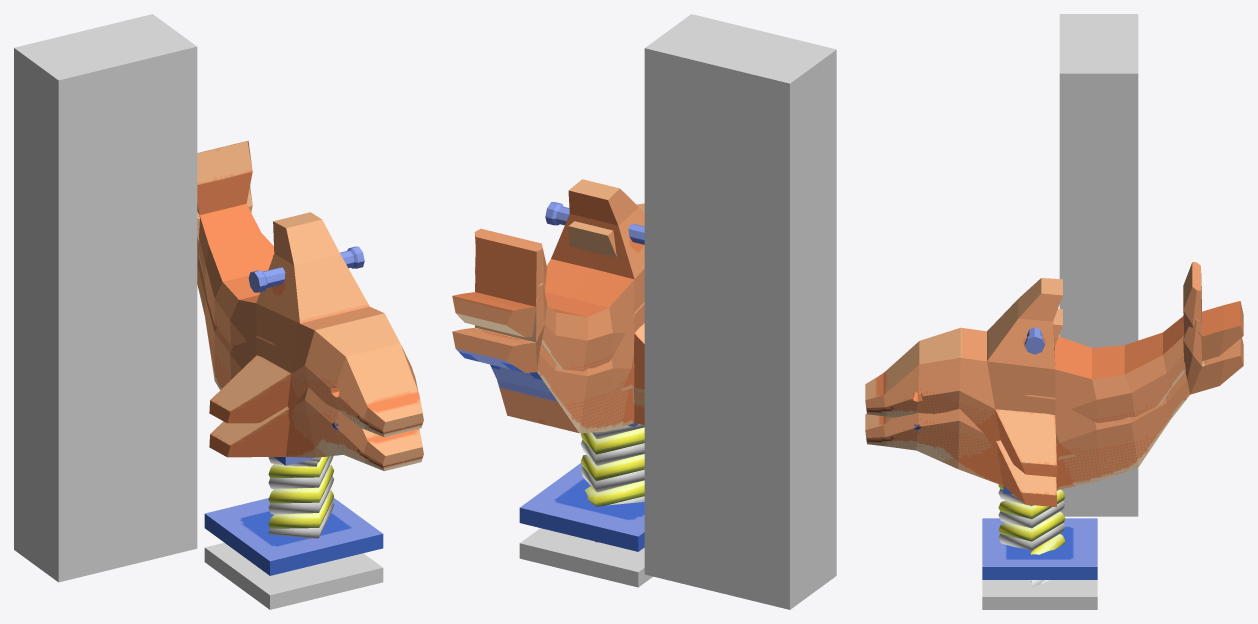
File: dolphin_spring_riderBLIND.fbx
3 renders of one model, left to right at view 1: azimuth 30°, elevation 25°; view 2: azimuth 150°, elevation 25°; view 3: azimuth 270°, elevation 25°, orthographic. The views are drawn at different scales.
Parts seen in each view (by area): view 1: Cube.001, dolphin-rider, dolphin_rider, Cube, spring; view 2: Cube.001, dolphin-rider, dolphin_rider, Cube, spring; view 3: dolphin-rider, Cube.001, dolphin_rider, Cube, spring.
Boxes of the visible parts, x1,y1,x2,y2 form: Cube.001: (14, 14, 197, 582); dolphin-rider: (197, 141, 423, 575); dolphin_rider: (197, 187, 423, 470); Cube: (204, 542, 383, 609); spring: (268, 456, 333, 538); Cube.001: (644, 14, 836, 609); dolphin-rider: (452, 179, 644, 551); dolphin_rider: (452, 221, 644, 433); Cube: (519, 528, 652, 587); spring: (580, 424, 644, 542); dolphin-rider: (865, 262, 1243, 579); Cube.001: (1059, 14, 1138, 516); dolphin_rider: (865, 309, 1243, 507); Cube: (982, 580, 1097, 609); spring: (998, 489, 1065, 584).
Bounding box in the file's own units: 113 × 181 × 130.
